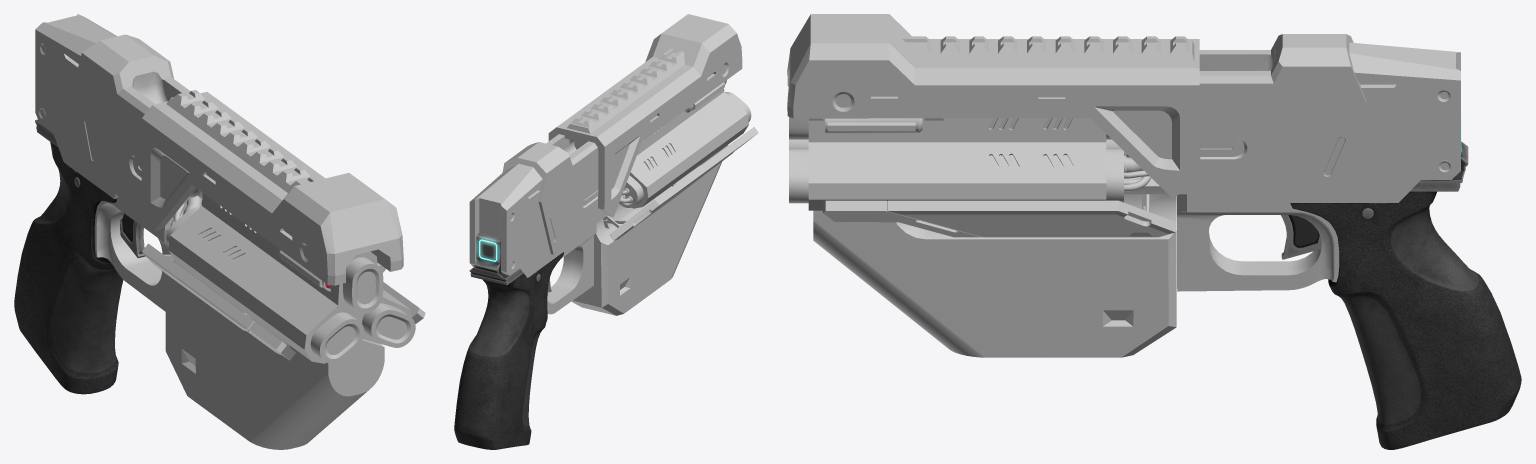
Rendered from MachinePistol.fbx.
3 views of the same model, side by side, from view 1: azimuth 30°, elevation 25°; view 2: azimuth 150°, elevation 25°; view 3: azimuth 270°, elevation 25° (orthographic). The views are drawn at different scales.
Parts seen in each view (by area): view 1: frame, slider, trigger; view 2: frame, slider; view 3: frame, slider, trigger.
Part boxes in pixels (bbox=[...]): frame: bbox=[14, 14, 425, 449]; slider: bbox=[141, 90, 403, 285]; trigger: bbox=[120, 213, 145, 257]; frame: bbox=[454, 80, 758, 449]; slider: bbox=[548, 14, 742, 216]; frame: bbox=[789, 34, 1521, 449]; slider: bbox=[787, 14, 1200, 198]; trigger: bbox=[1281, 215, 1321, 259].
Bounding box in the file's own units: 6.79 × 16.36 × 26.41.
